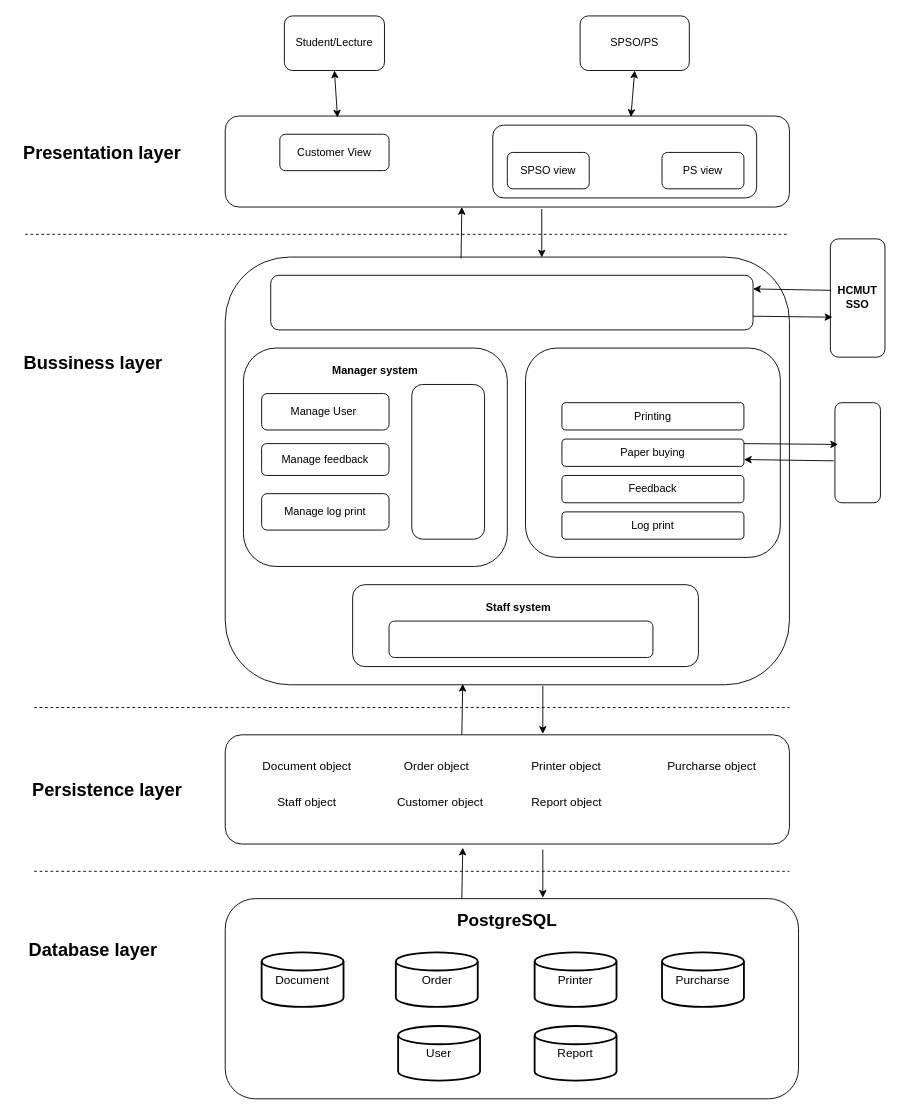
Image size: 901x1115. Some labels were removed from this diagram. The box of each missing label's shape, as (x1, y1, x2, y2) in pixels:
Authentication and Identification System: (270, 274, 753, 330)
BKpay: (834, 402, 880, 503)
Config printer: (411, 384, 485, 539)
Customer system: (525, 347, 780, 557)
Manager view: (492, 124, 757, 198)
Receive print orders and update progress: (388, 620, 653, 657)
